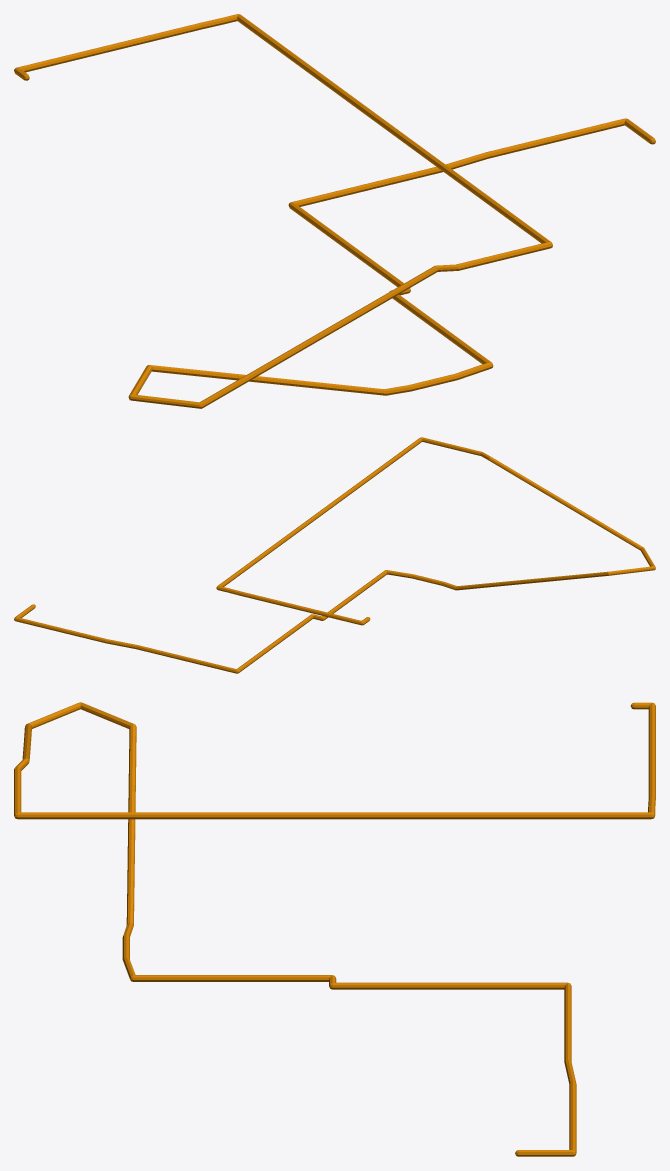
3 views of the same model, one above another, from view 1: azimuth 30°, elevation 25°; view 2: azimuth 150°, elevation 25°; view 3: azimuth 270°, elevation 25° (orthographic). The views are drawn at different scales.
Bounding box in the file's own units: 2408 × 520 × 1772.
